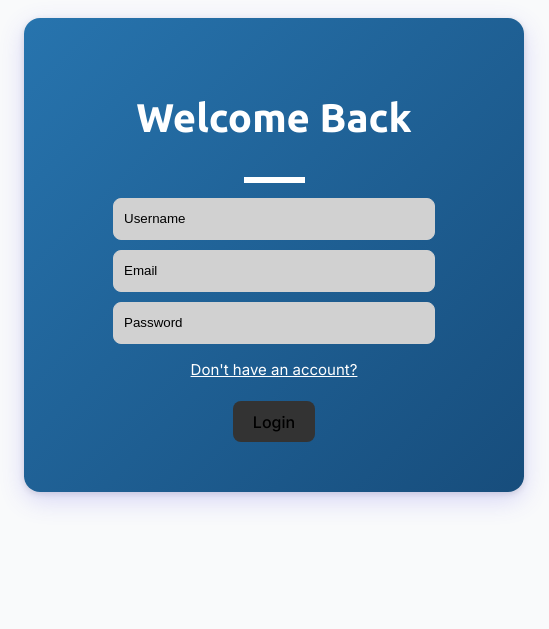
LoginSignup Component › toggles to the signup form
Click the button "Don't have an account?" at (274,369), box [191,360,358,379]
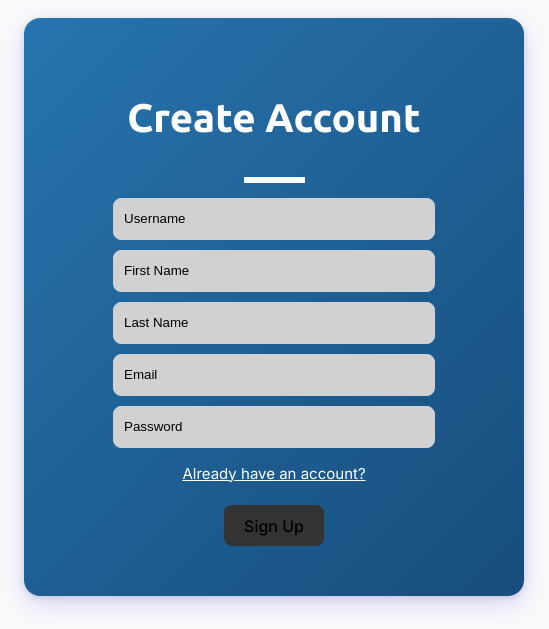
Result: the heading "Create Account" is shown at [113,95,435,141]
Result: the field with placeholder "First Name" is shown at [113,250,435,292]
Result: the field with placeholder "Last Name" is shown at [113,302,435,344]
